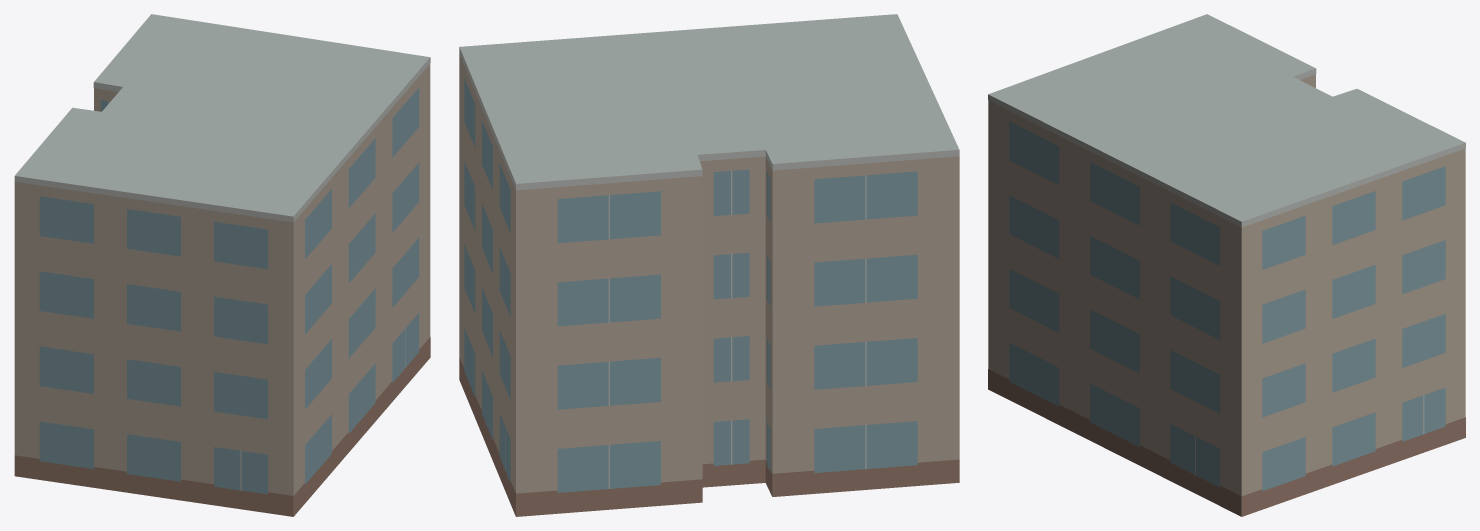
The model's file is survey-upis-32525127.glb.
3 views of the same model, side by side, from view 1: azimuth 30°, elevation 25°; view 2: azimuth 150°, elevation 25°; view 3: azimuth 270°, elevation 25° (orthographic). The views are drawn at different scales.
Parts seen in each view (by area): view 1: survey-upis-32525127.tmp; view 2: survey-upis-32525127.tmp; view 3: survey-upis-32525127.tmp.
Boxes of the visible parts, <box> form: survey-upis-32525127.tmp: <box>14,14,430,516</box>; survey-upis-32525127.tmp: <box>459,14,959,516</box>; survey-upis-32525127.tmp: <box>988,14,1465,516</box>.
Size of the model in its own units: 18.89 by 12.5 by 18.35.
